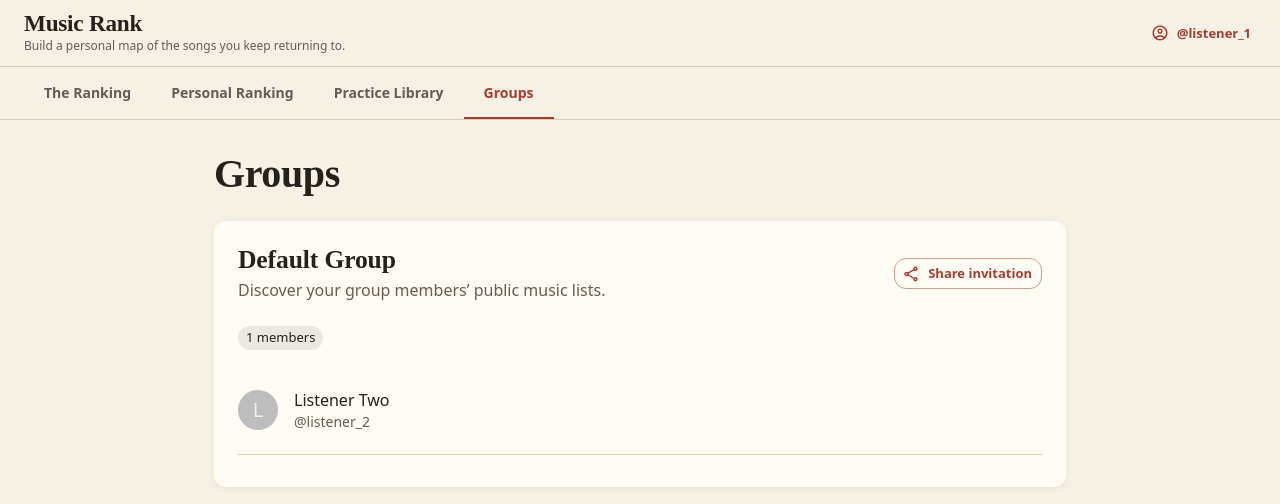
Default Group › opens a known member with private lists without requesting private contents
The width and height of the screenshot is (1280, 504).
What coordinates should you click on to do the following:
click the text "Listener Two"
I would click on:
 (342, 400)
Its box is top-left (294, 389), bottom-right (390, 411).
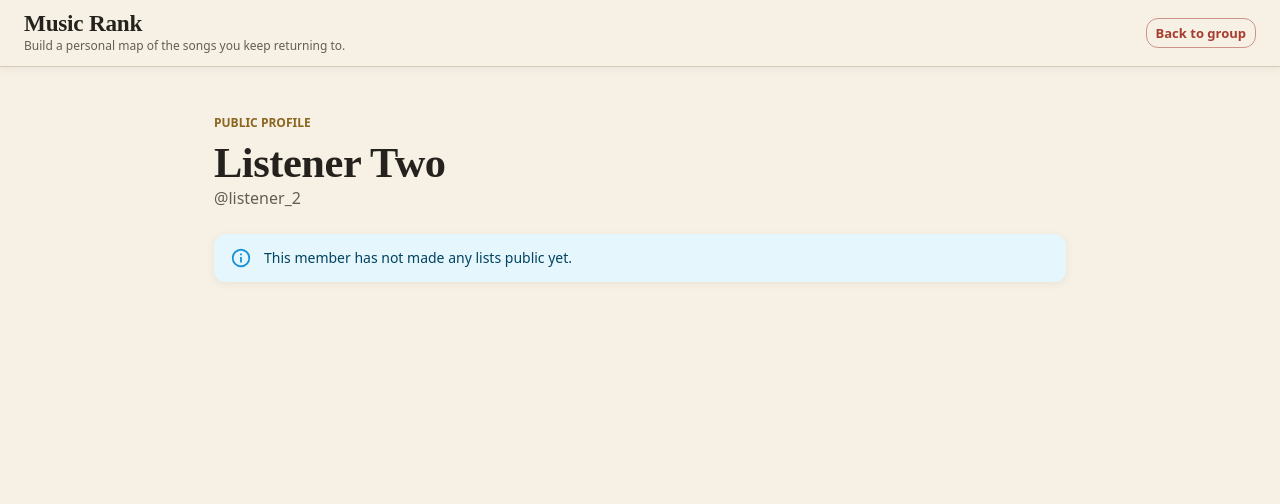
Expected: the text "This member has not made any lists public yet." is shown, top-left (264, 248), bottom-right (572, 267)
